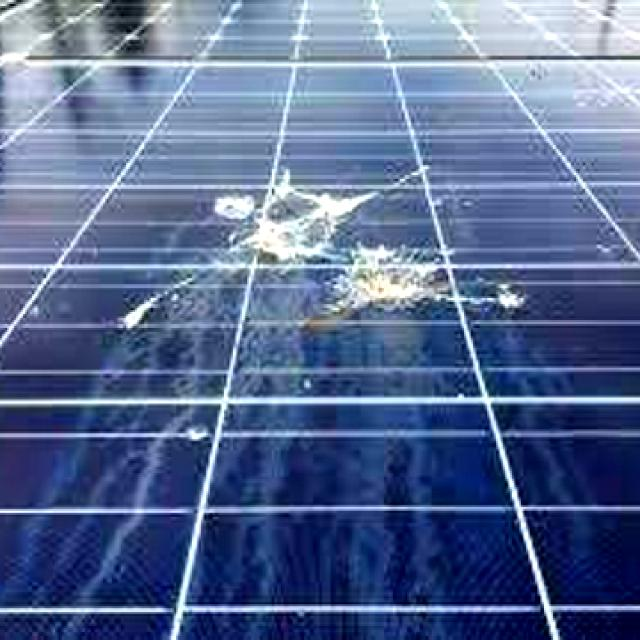bird: (184, 156, 374, 258), (322, 253, 448, 322), (475, 274, 563, 316), (106, 286, 176, 334), (179, 418, 213, 443)
